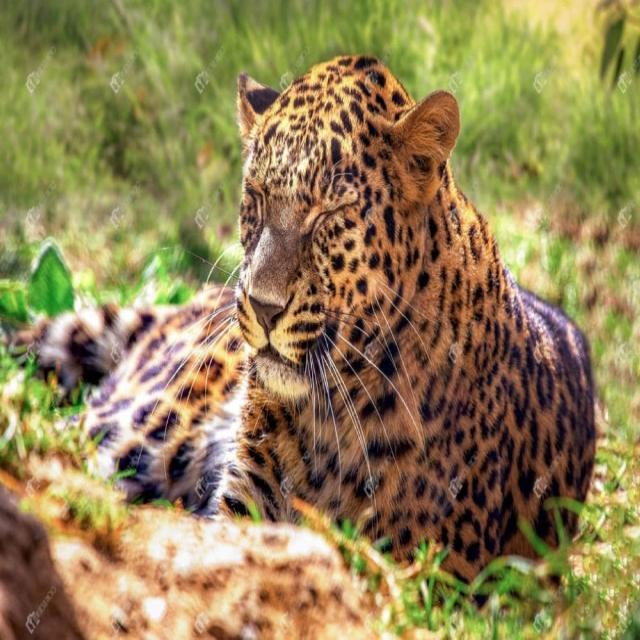Leopard: (79, 52, 600, 560)
